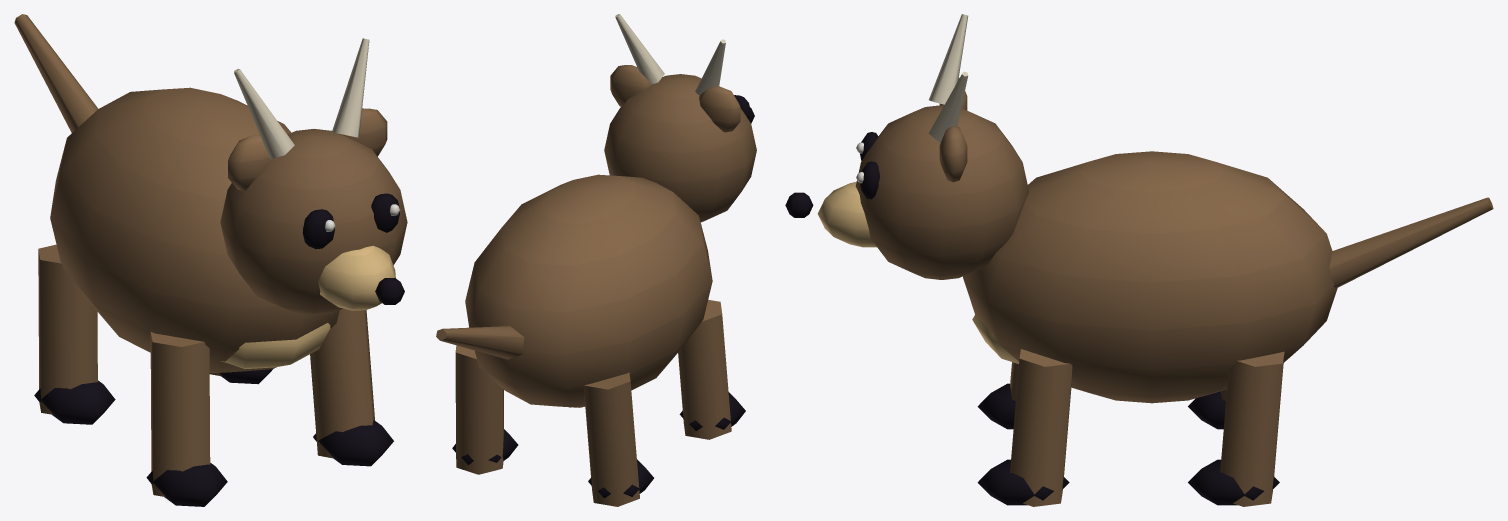
File: monster_boar.glb
3 renders of one model, left to right at view 1: azimuth 30°, elevation 25°; view 2: azimuth 150°, elevation 25°; view 3: azimuth 270°, elevation 25°, orthographic. The views are drawn at different scales.
Parts seen in each view (by area): view 1: body_t0_palette, legl_t0_palette, legr_t0_palette, tail_t0_palette; view 2: body_t0_palette, legl_t0_palette, legr_t0_palette, tail_t0_palette; view 3: body_t0_palette, legr_t0_palette, tail_t0_palette, legl_t0_palette.
Part boxes in pixels (bbox=[...]): body_t0_palette: bbox=[50, 38, 407, 373]; legl_t0_palette: bbox=[34, 244, 227, 506]; legr_t0_palette: bbox=[209, 308, 393, 466]; tail_t0_palette: bbox=[14, 14, 98, 132]; body_t0_palette: bbox=[465, 14, 756, 407]; legl_t0_palette: bbox=[584, 300, 745, 506]; legr_t0_palette: bbox=[452, 345, 570, 474]; tail_t0_palette: bbox=[436, 326, 524, 359]; body_t0_palette: bbox=[785, 14, 1337, 403]; legr_t0_palette: bbox=[977, 349, 1284, 506]; tail_t0_palette: bbox=[1329, 197, 1493, 287]; legl_t0_palette: bbox=[977, 362, 1226, 429].
Size of the model in its own units: 0.216 by 0.3976 by 0.6065.
